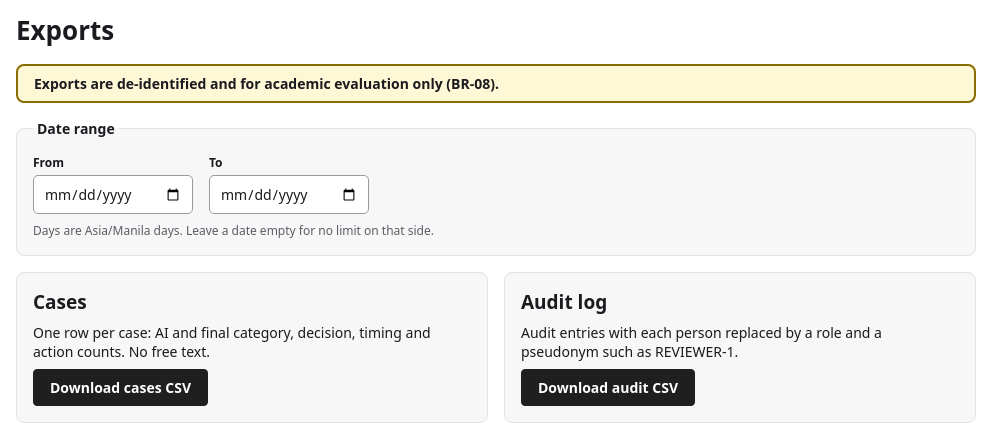
downloading › disables both buttons while a download is under way
This screenshot has width=993, height=440.
Click the button "Download cases CSV": click(120, 388) [33,369,208,406]
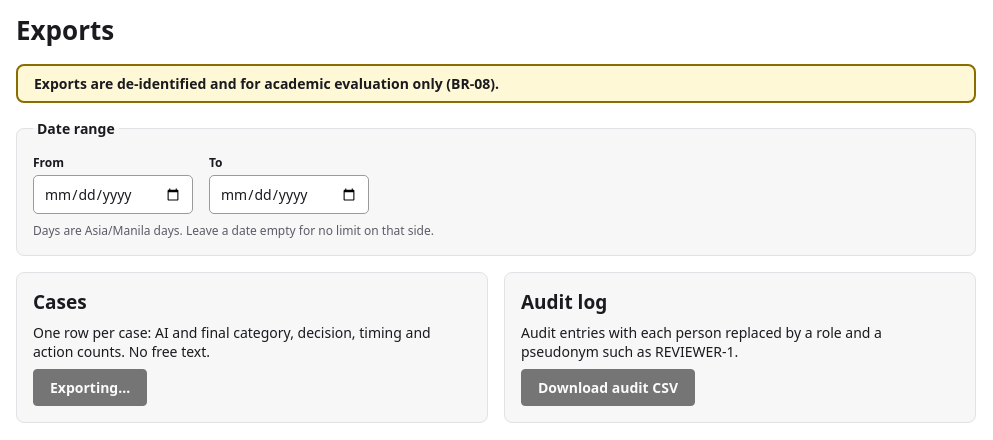
Now the button "Exporting…" is disabled, box [33,369,147,406]
Now the button "Download audit CSV" is disabled, box [521,369,695,406]
